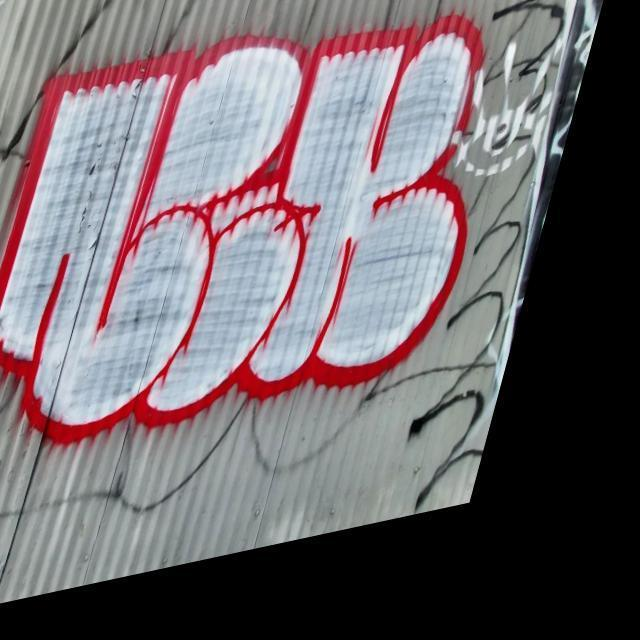-: (0, 0, 560, 511)
